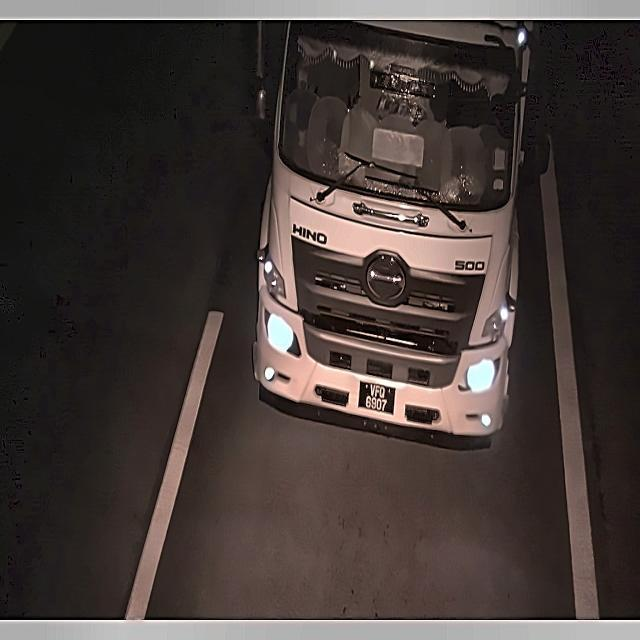car: (356, 379, 402, 421)
